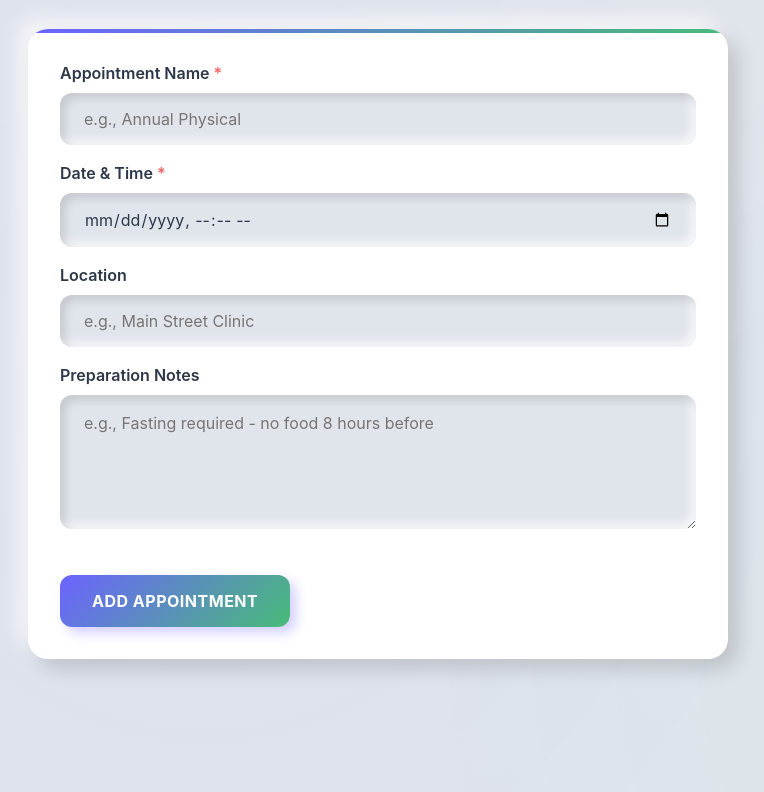
AppointmentForm › should clear validation errors on successful submission
This screenshot has width=764, height=792.
First submit with invalid data
Click the button "Add Appointment".
click(175, 601)  # box x1=60 y1=575 x2=290 y2=627
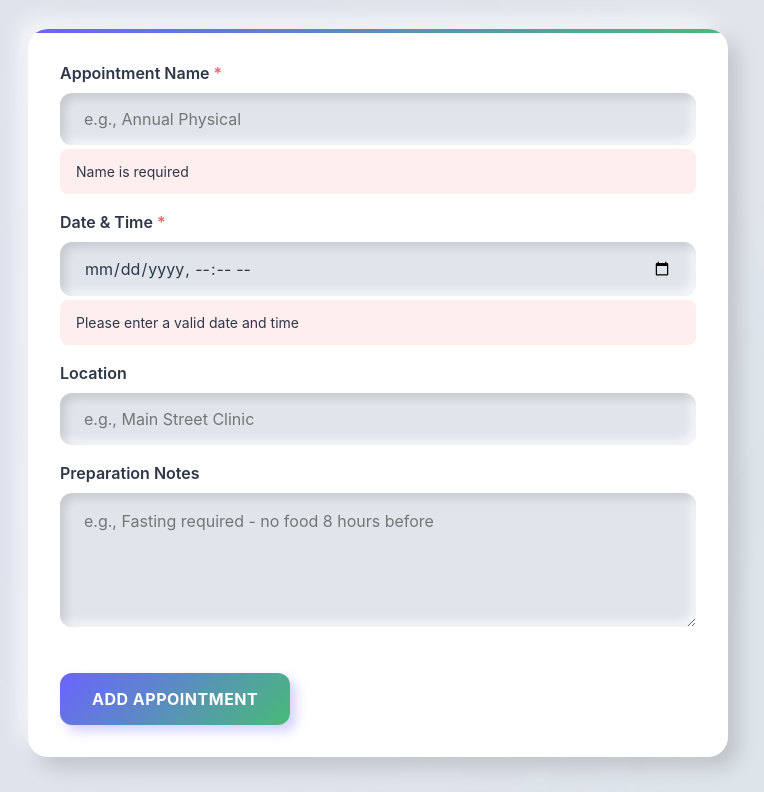
Expected: the text "Name is required" is shown, x1=60 y1=149 x2=696 y2=194
Now fill with valid data and submit
Type "Test Appointment" into the field labelled "Appointment Name *".
click(378, 119); type("Test Appointment")  # box x1=60 y1=93 x2=696 y2=145
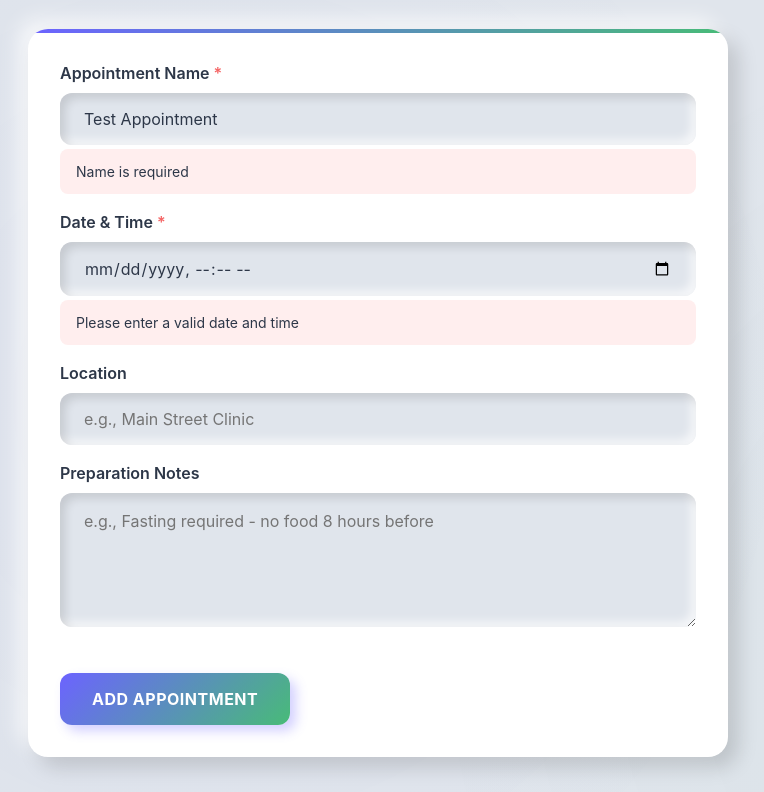
Type "2030-12-01T10:00" into the field labelled "Date & Time *".
click(378, 269); type("2030-12-01T10:00")  # box x1=60 y1=242 x2=696 y2=296
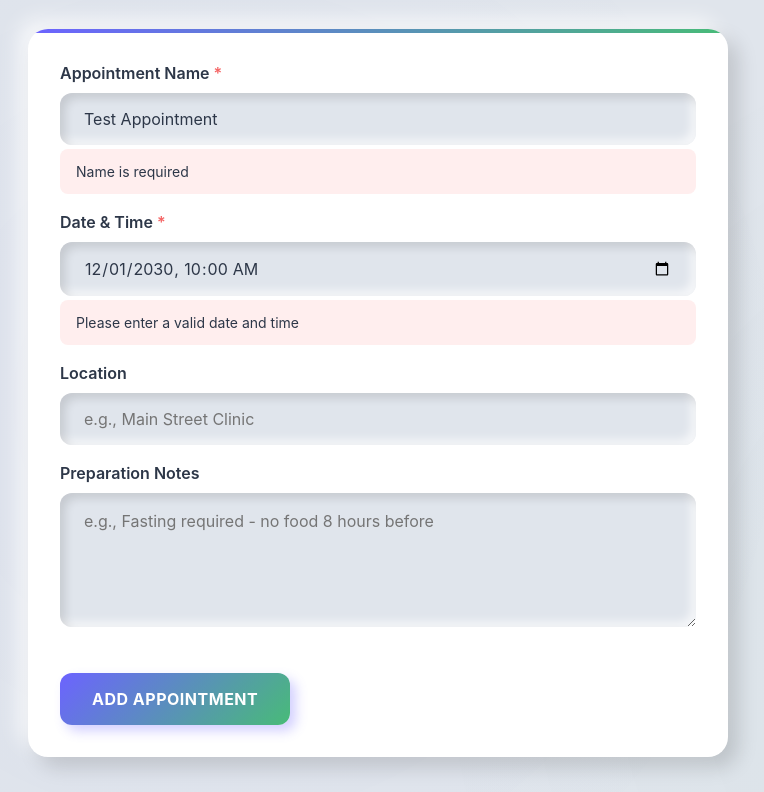
Click the button "Add Appointment".
click(175, 699)  # box x1=60 y1=673 x2=290 y2=725
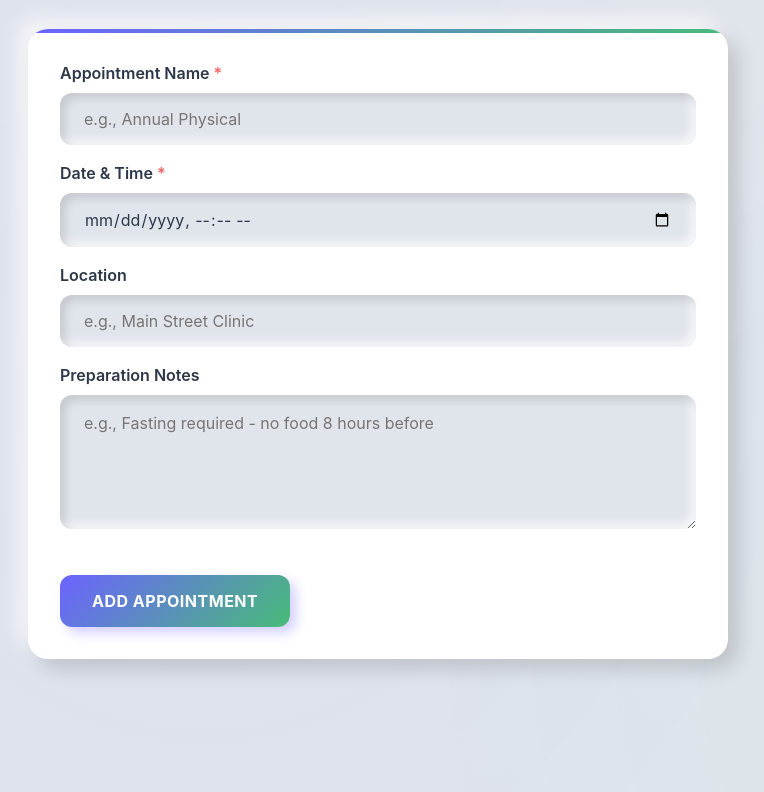
Expected: the text "Name is required" is gone
